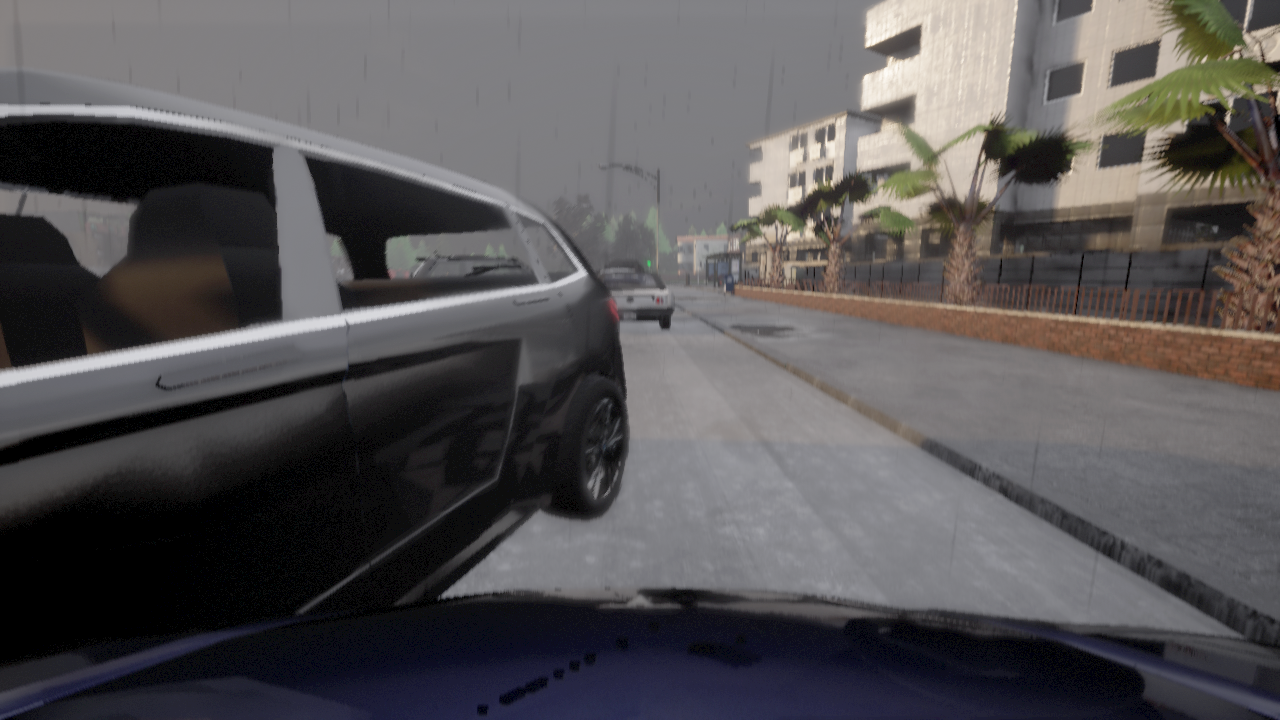cyclist: (0, 67, 627, 644), (0, 588, 1279, 719), (598, 272, 673, 328), (596, 264, 643, 276), (608, 261, 642, 271), (595, 273, 597, 275)
